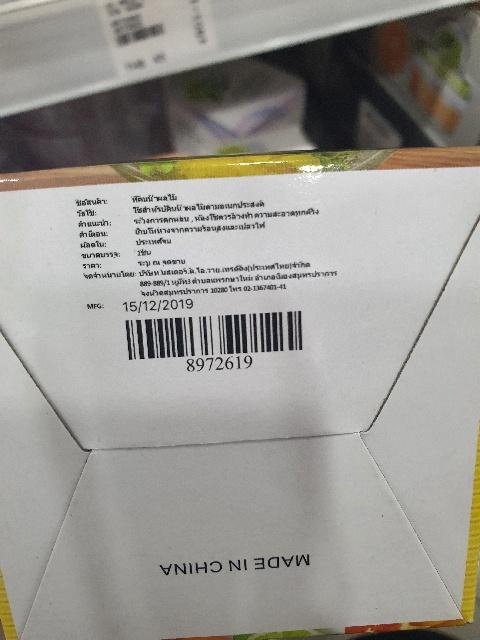Barcode: (110, 301, 326, 376)
